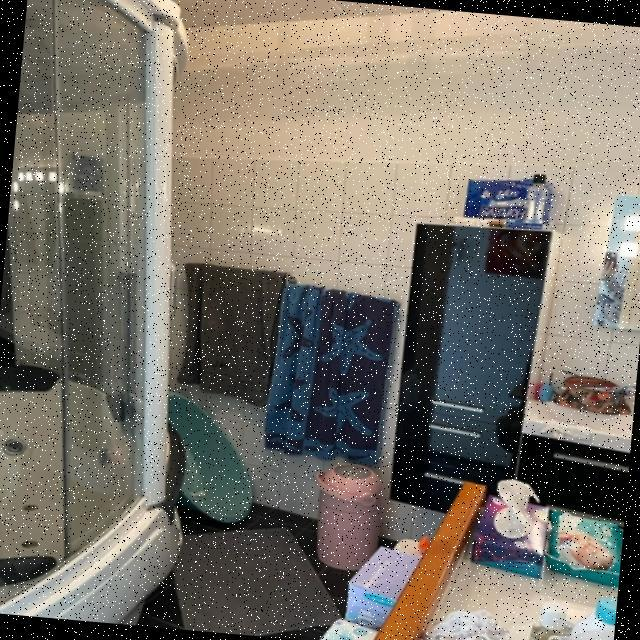douche: (0, 0, 232, 628)
wastafel: (510, 430, 631, 522), (525, 370, 636, 441)
